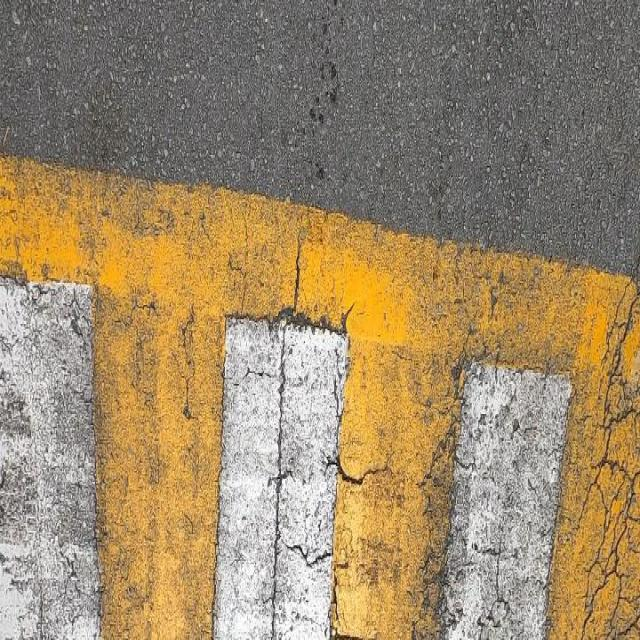cracks: (218, 209, 482, 640), (552, 242, 640, 640)
